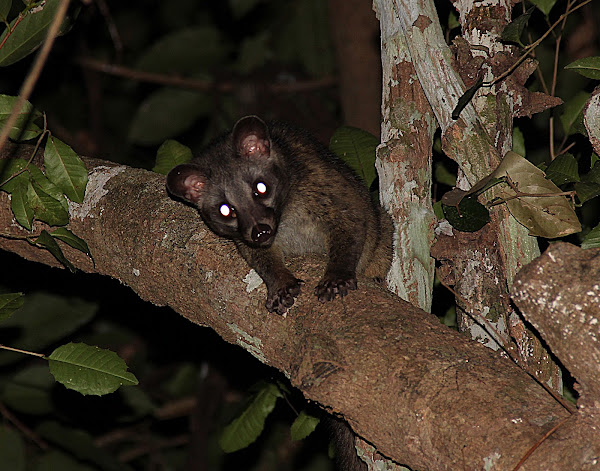Civet: (152, 120, 400, 319)
